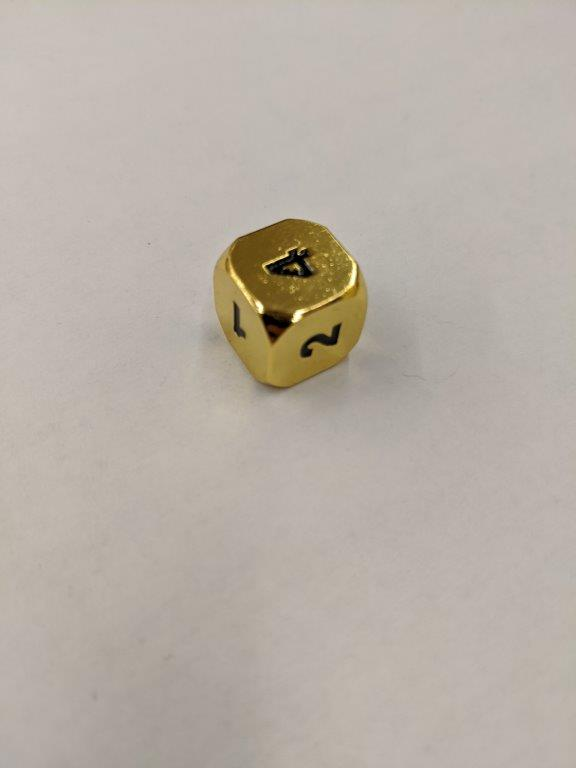d6-4: (211, 215, 369, 391)
